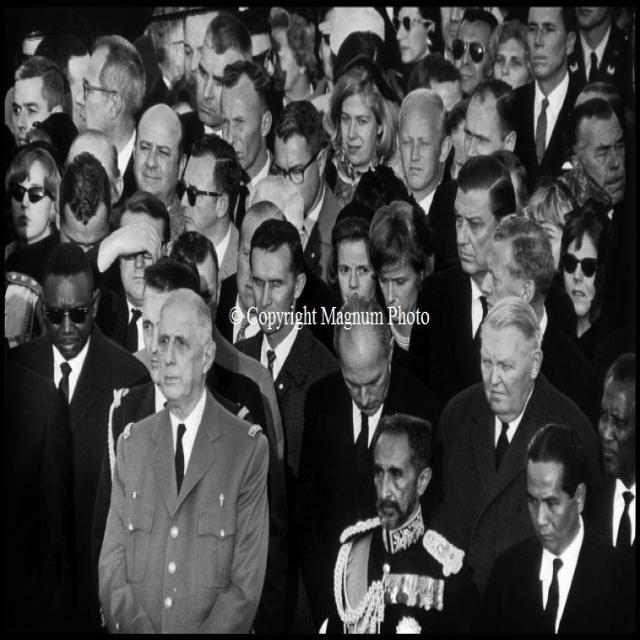body: (0, 0, 640, 210), (90, 284, 274, 639), (426, 293, 600, 640), (8, 240, 156, 638), (286, 291, 452, 638), (233, 217, 339, 636), (404, 155, 558, 409), (132, 226, 288, 473), (316, 410, 484, 635), (478, 419, 637, 639), (0, 144, 149, 349), (478, 211, 604, 433), (541, 198, 637, 427), (496, 4, 597, 206), (427, 77, 523, 282), (565, 97, 639, 321), (270, 98, 345, 290), (90, 188, 176, 354), (395, 84, 468, 276), (368, 198, 441, 388), (320, 51, 401, 217), (74, 32, 148, 210), (173, 14, 256, 161), (168, 131, 245, 284), (218, 57, 283, 231), (212, 200, 290, 343), (586, 349, 637, 554), (1, 143, 62, 277), (132, 101, 189, 242), (566, 0, 634, 110), (524, 170, 587, 274), (324, 201, 382, 308), (11, 54, 73, 150), (392, 5, 444, 97), (450, 5, 499, 96), (493, 20, 534, 94)
